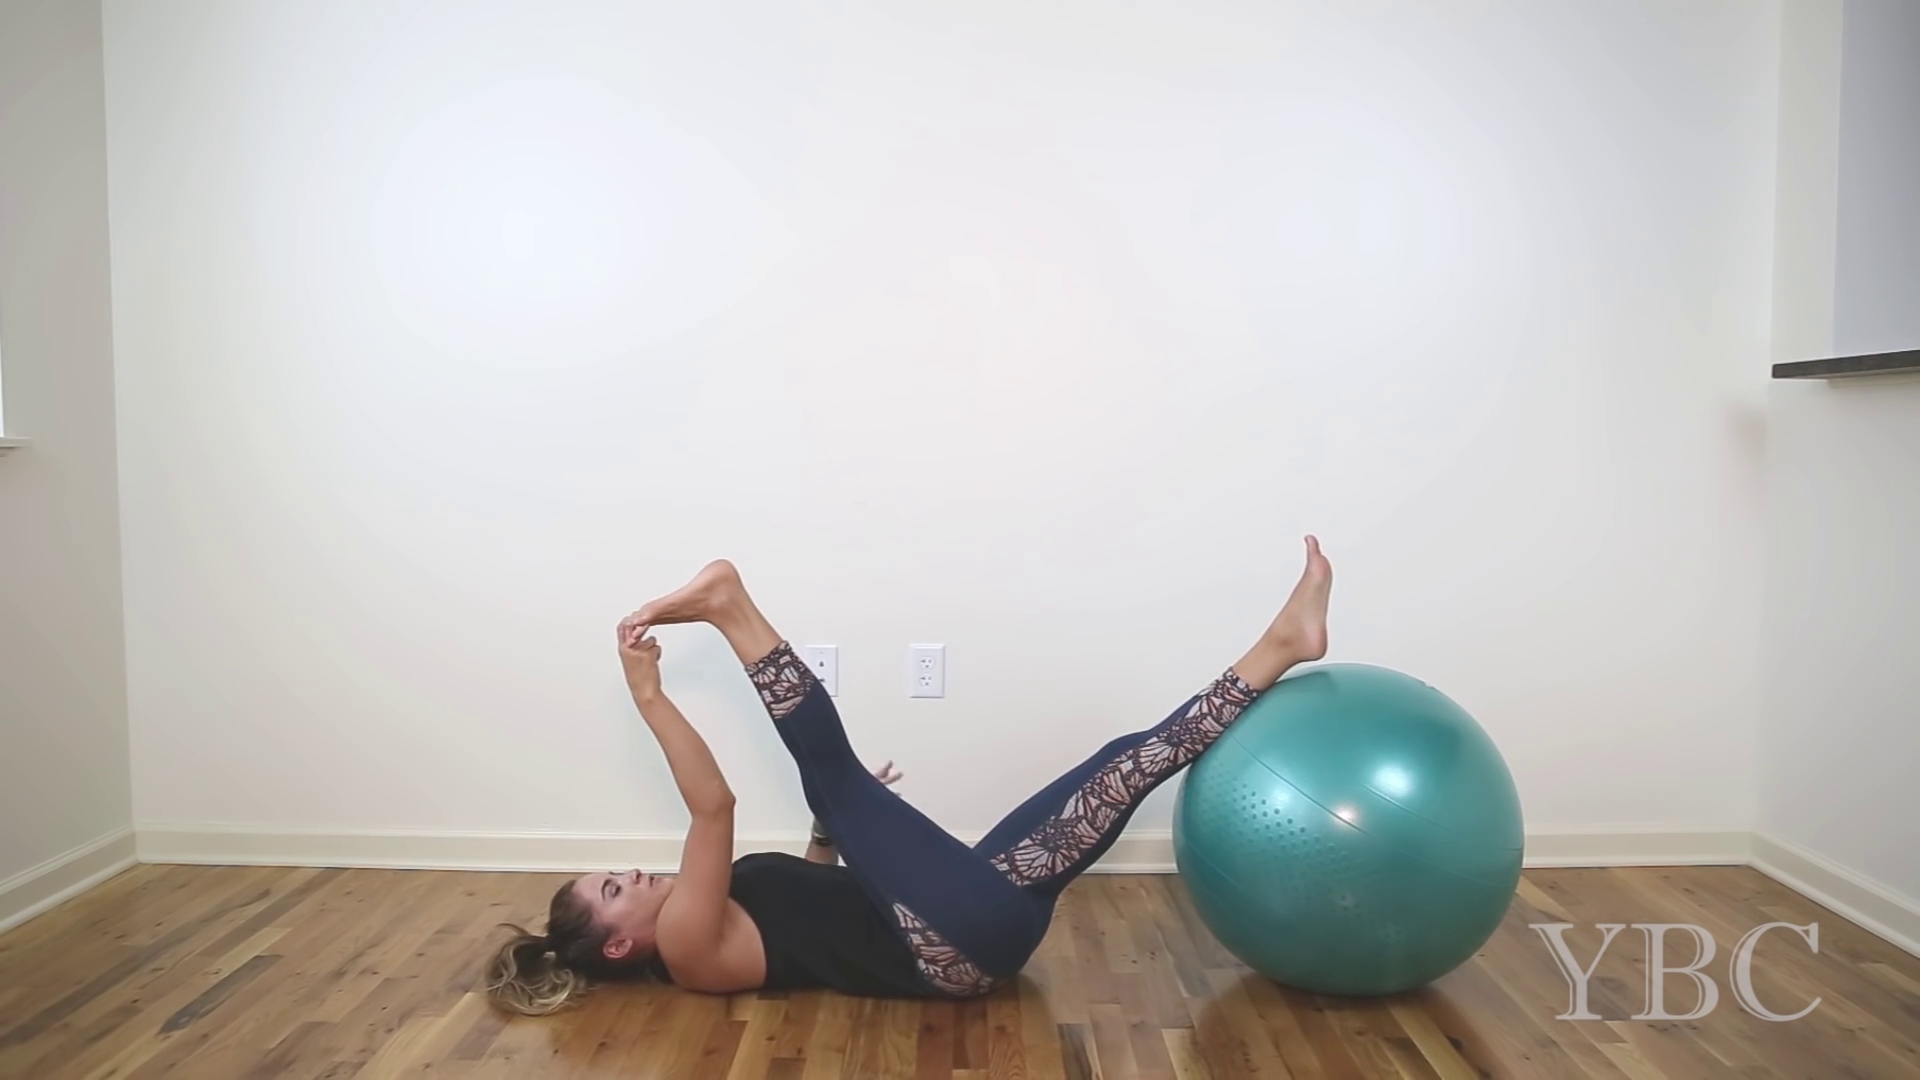yogaball: (1166, 654, 1534, 1007)
